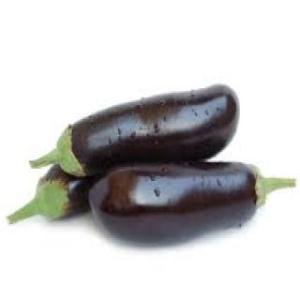eggplant: (63, 84, 237, 174), (87, 162, 265, 244)
